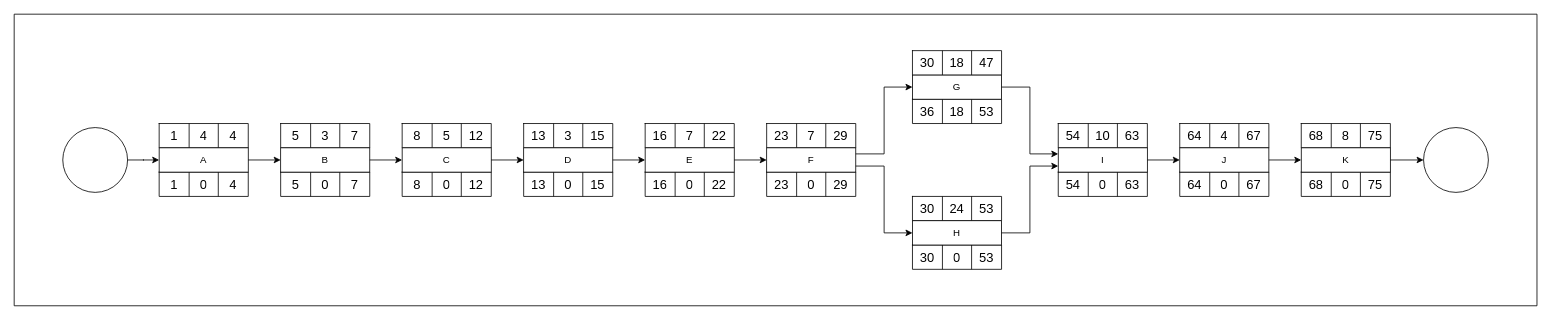
This 1551x320 diagram has some shape labels left out. The centre of each missing label's shape, as x and y in pixels:
"Finish" goes at point (1455, 159).
"Start" goes at point (95, 159).
